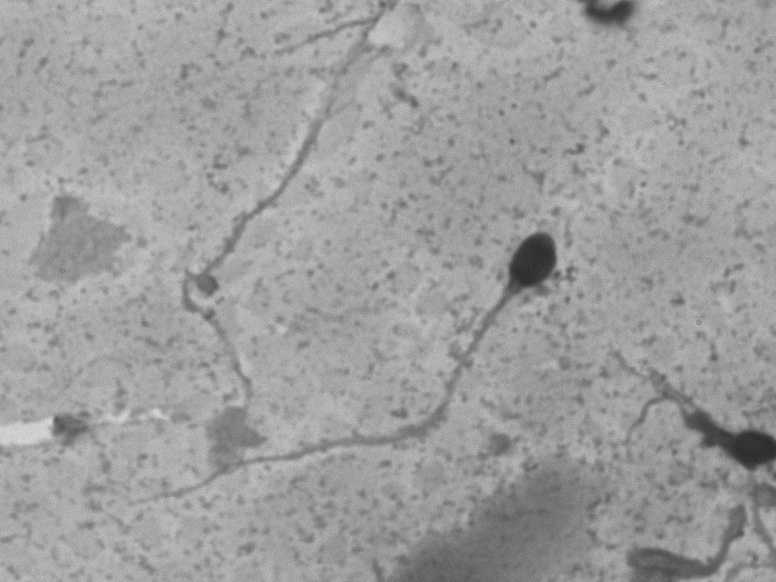Normal: (114, 212, 577, 513)
